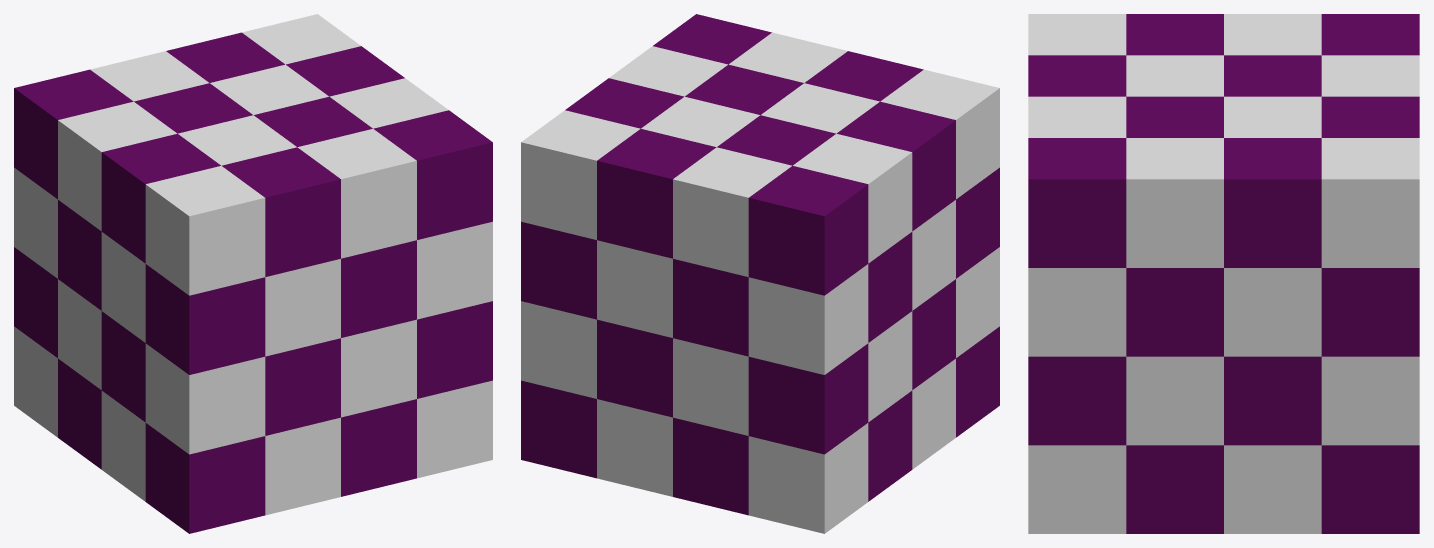
Rendered from cube-finish.glb.
3 views of the same model, side by side, from view 1: azimuth 30°, elevation 25°; view 2: azimuth 150°, elevation 25°; view 3: azimuth 270°, elevation 25° (orthographic). The views are drawn at different scales.
Parts seen in each view (by area): view 1: cube-finish; view 2: cube-finish; view 3: cube-finish.
Boxes of the visible parts, x1,y1,x2,y2 form: cube-finish: (14,14,492,533); cube-finish: (521,14,999,533); cube-finish: (1028,14,1419,533).
Bounding box in the file's own units: 1 × 1 × 1.
